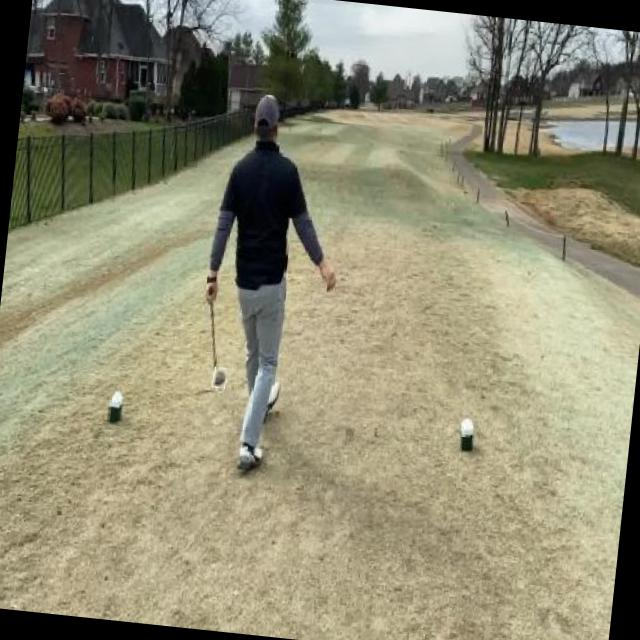club head: (212, 366, 226, 388)
